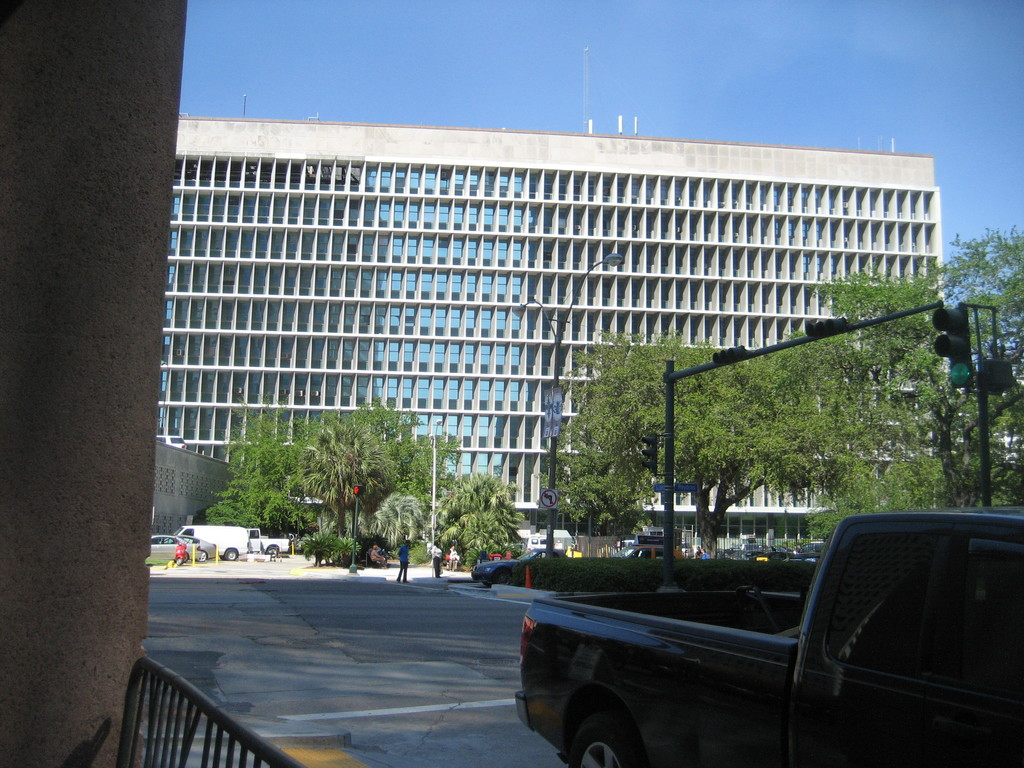Car: (512, 490, 1023, 767), (469, 541, 572, 590), (144, 529, 225, 568)
